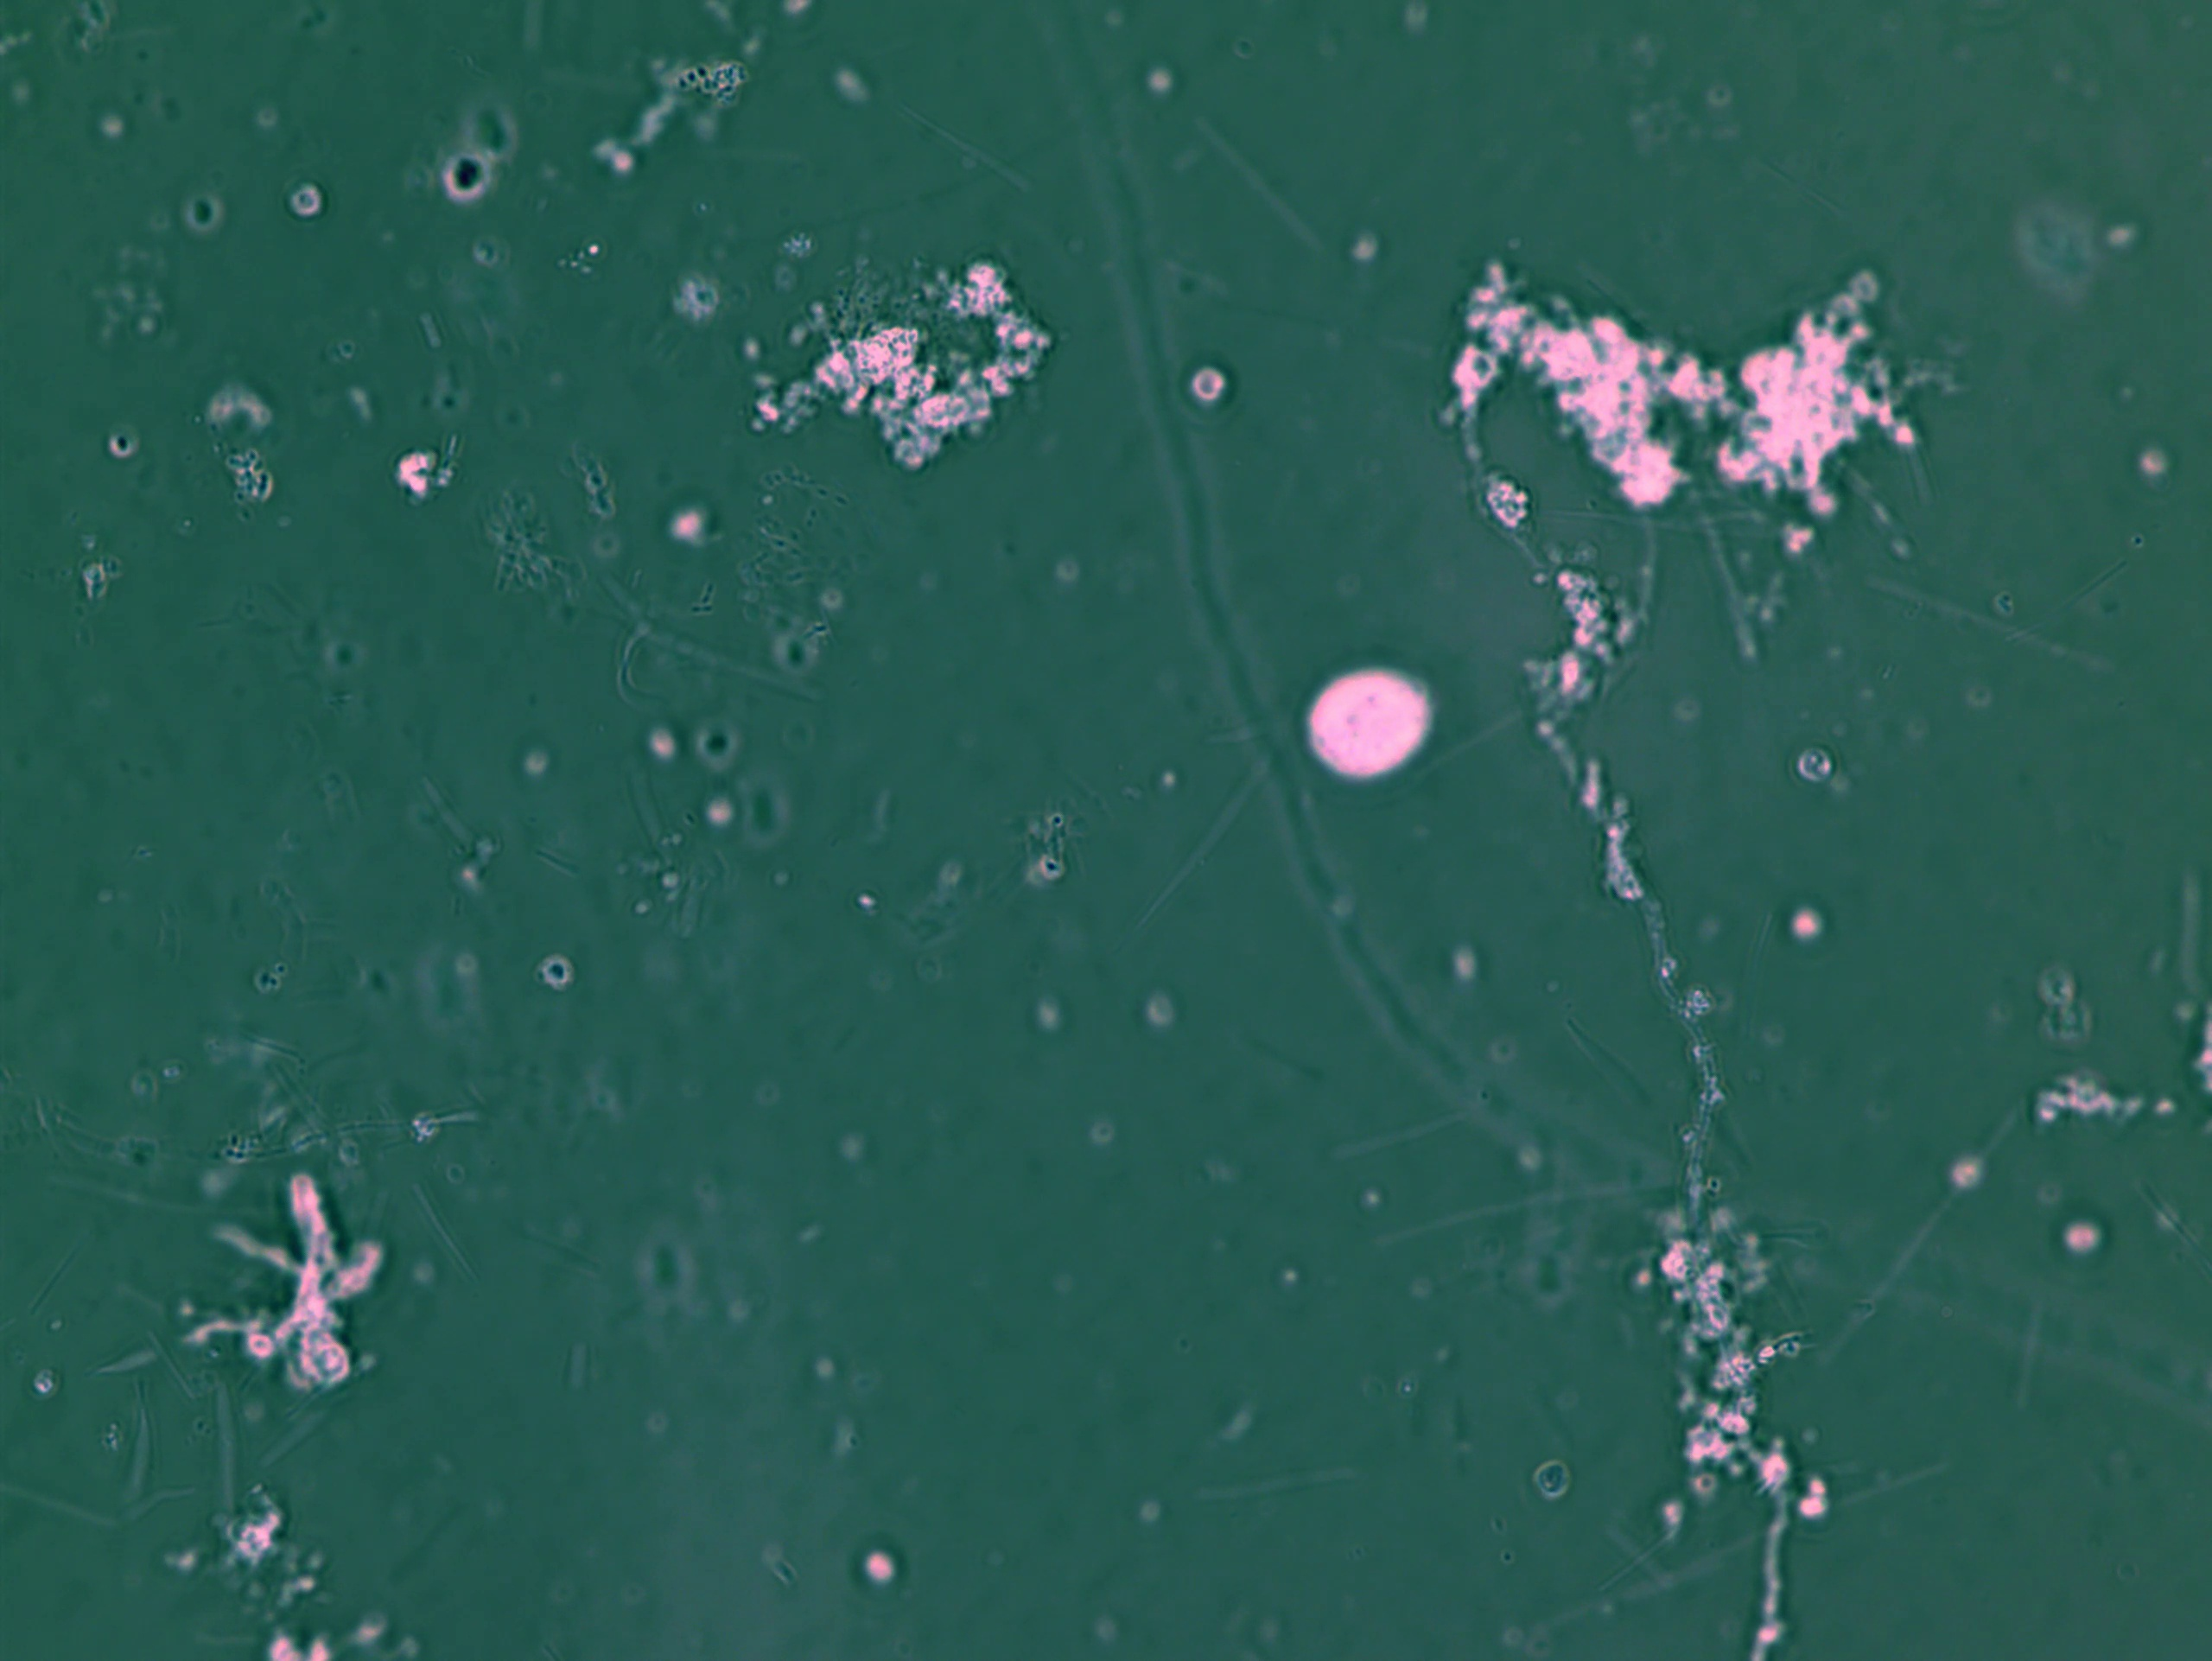depth:40: (1277, 626, 1485, 811)
